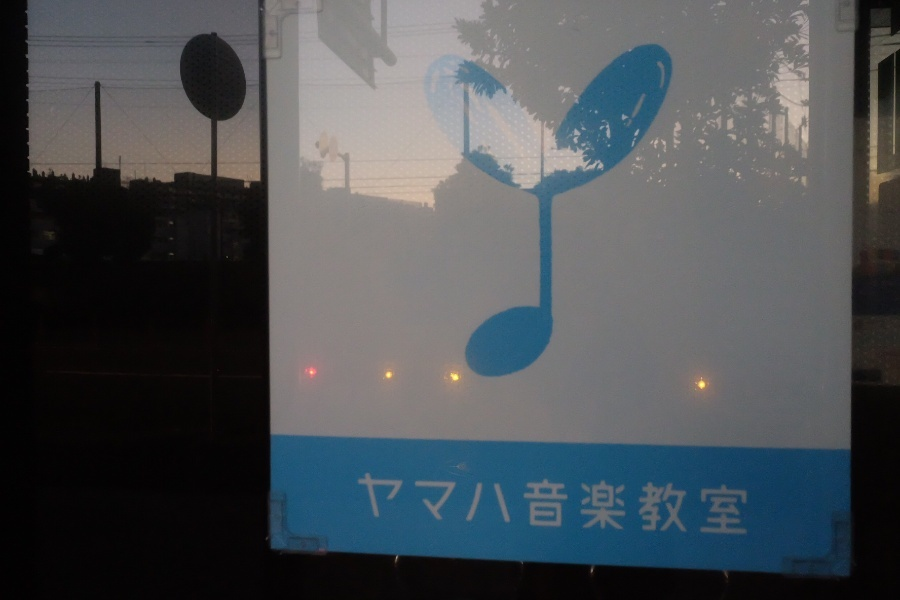text: (369, 473, 384, 537), (385, 473, 400, 537), (401, 473, 416, 537), (417, 473, 432, 537), (433, 473, 448, 537), (449, 473, 464, 537), (465, 473, 480, 537), (481, 473, 496, 537), (497, 473, 512, 537), (513, 473, 528, 537), (529, 473, 544, 537), (545, 473, 560, 537), (561, 473, 576, 537), (577, 473, 592, 537), (593, 473, 608, 537), (609, 473, 624, 537), (625, 473, 640, 537), (641, 473, 656, 537), (657, 473, 672, 537), (673, 473, 688, 537), (689, 473, 704, 537), (705, 473, 720, 537), (721, 473, 736, 537), (737, 473, 749, 537), (357, 473, 368, 537)
